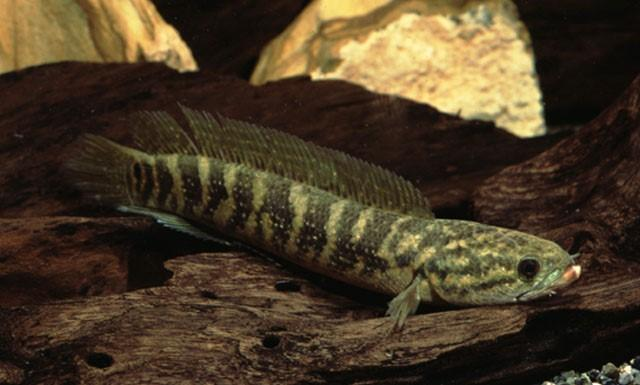Snakehead: (64, 105, 582, 335)
